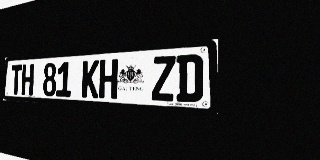1: (56, 62, 72, 97)
8: (42, 62, 57, 96)
D: (176, 54, 203, 103)
H: (99, 59, 118, 99), (21, 64, 34, 95)
K: (82, 60, 99, 98)
T: (10, 65, 22, 95)
Z: (151, 55, 176, 101)
